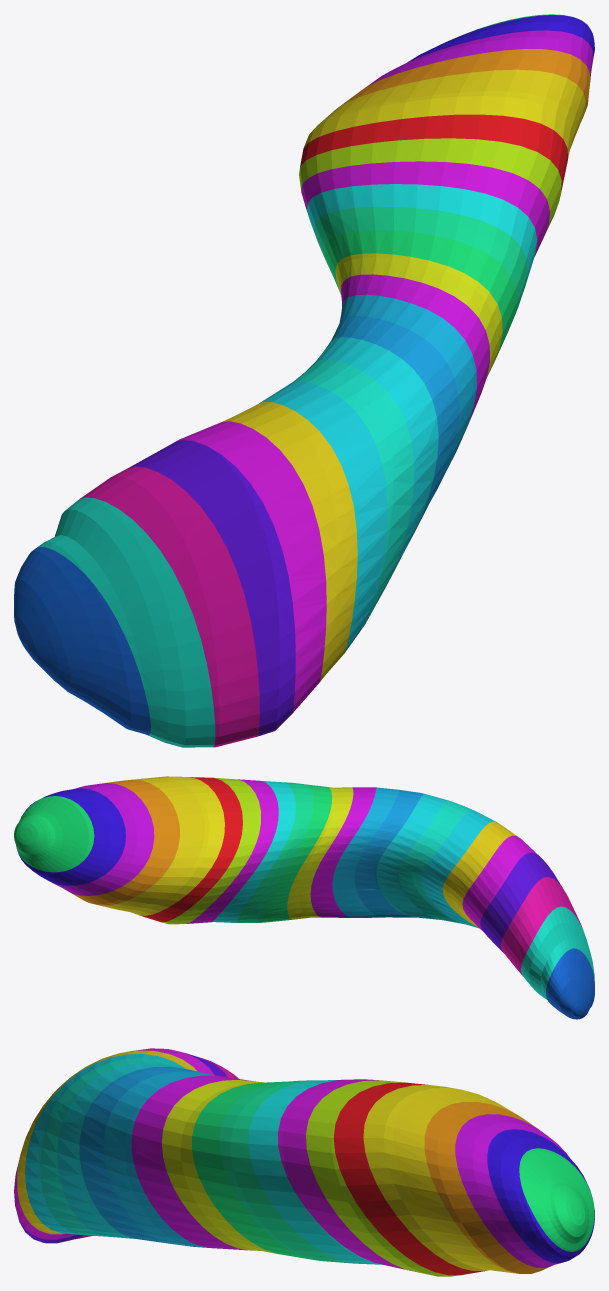
The model's file is pancreas-male-uf-v1.0.glb.
3 views of the same model, one above another, from view 1: azimuth 30°, elevation 25°; view 2: azimuth 150°, elevation 25°; view 3: azimuth 270°, elevation 25° (orthographic). The views are drawn at different scales.
Visible parts, largest first — view 1: world; view 2: world; view 3: world.
Part boxes in pixels (left/top/right/bottom): world: left=14, top=14, right=594, bottom=747; world: left=14, top=776, right=594, bottom=1019; world: left=14, top=1048, right=594, bottom=1276.
Bounding box in the file's own units: 0.1042 × 0.0519 × 0.083.
